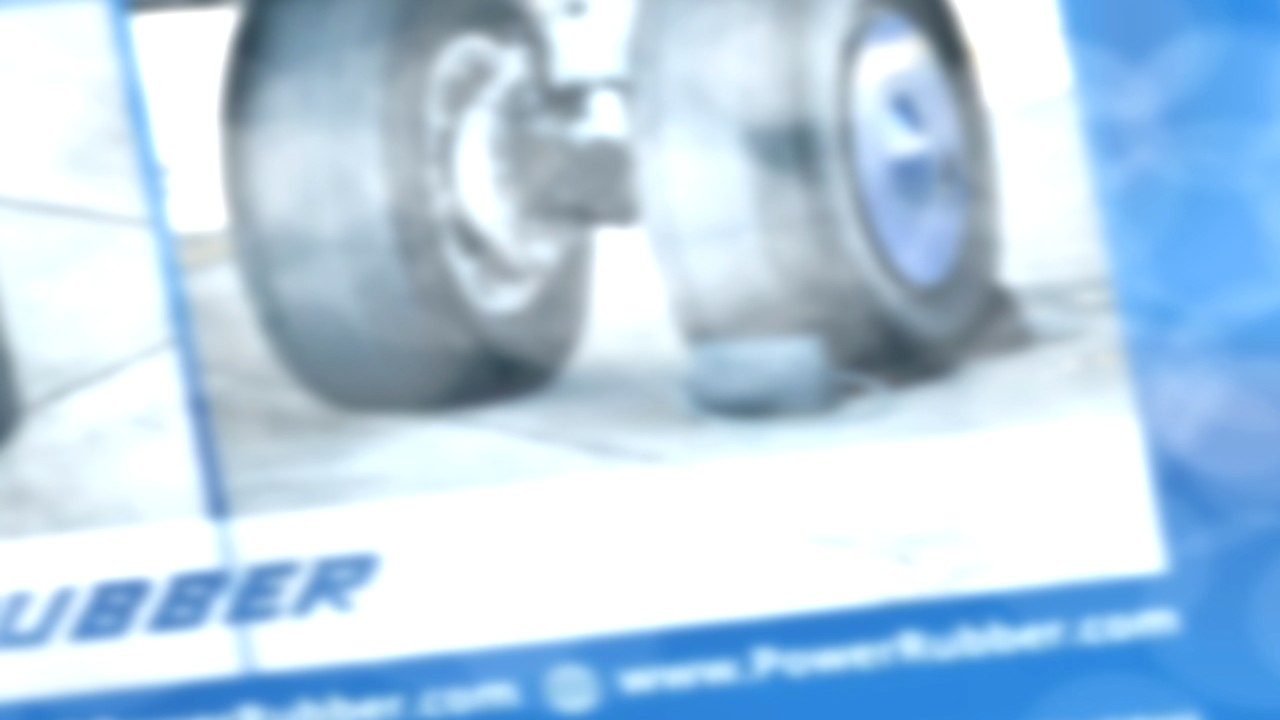chock: (674, 322, 852, 433), (953, 278, 1051, 365)
wheel: (176, 0, 626, 429), (582, 0, 1039, 412)
